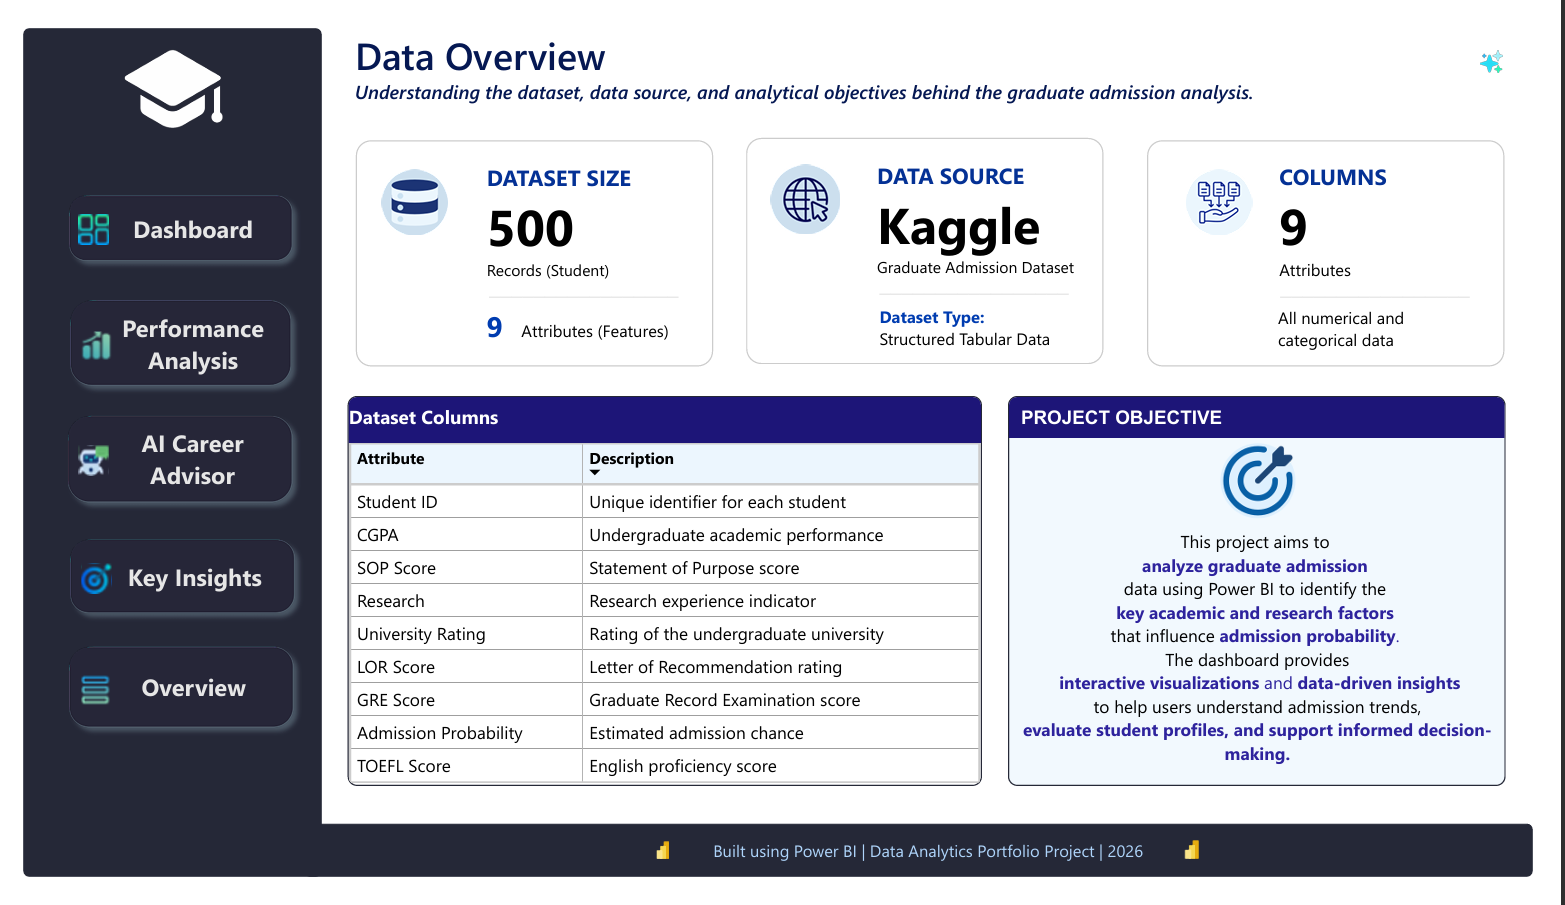

Layout of this report page (visuals, bound fields, positions):
{"tool":"powerbi","page":{"name":"Overview ","canvas":[1280,720],"ordinal":0},"visuals":[{"type":"shape","box":[0,0,252.9,720],"z":0,"group":"g3"},{"type":"textbox","box":[281.4,0,802.9,94.3],"z":0},{"type":"textbox","title":"DATASET SIZE","box":[613.3,93.3,303.3,192.2],"z":0,"group":"g5"},{"type":"textbox","title":"DATASET SIZE","box":[282.3,94.6,303.3,192.2],"z":0,"group":"g4"},{"type":"textbox","title":"DATASET SIZE","box":[953.3,95,303.3,192.2],"z":0,"group":"g6"},{"type":"shape","box":[237.8,675,1042.2,44.4],"z":0,"group":"g2"},{"type":"textbox","box":[724.5,112.3,180,114.3],"z":1000,"group":"g5"},{"type":"textbox","box":[1064.9,113.2,194.3,114.3],"z":1000,"group":"g6"},{"type":"textbox","box":[393.5,113.5,134,113.3],"z":1000,"group":"g4"},{"type":"group","id":"g1","title":"Group 7","box":[29.4,132.8,210,468.6],"z":1000,"group":"g3"},{"type":"group","id":"g2","title":"Group 3","box":[237.8,673.7,1042.2,46.3],"z":1000},{"type":"group","id":"g3","title":"Group 8","box":[0,0,252.9,720],"z":2000},{"type":"textbox","box":[725.9,235.4,192.7,42.7],"z":2000,"group":"g5"},{"type":"textbox","box":[393.5,235.7,164.1,43.3],"z":2000,"group":"g4"},{"type":"textbox","box":[1064.5,236.1,164.1,43.3],"z":2000,"group":"g6"},{"type":"image","box":[1210,4.3,70,48.6],"z":3000},{"type":"textbox","box":[726.4,216.2,174,20],"z":3000,"group":"g5"},{"type":"textbox","box":[395.4,217.5,174,20],"z":3000,"group":"g4"},{"type":"textbox","box":[1066.4,217.9,174,20],"z":3000,"group":"g6"},{"type":"image","box":[54.3,4.3,145.7,110],"z":4000},{"type":"tableEx","title":"Dataset Columns","fields":{"Values":["Dataset Columns.Attribute","Dataset Columns.Description"]},"box":[275,311.7,538.3,331.7],"z":5000},{"type":"group","id":"g4","title":"Group 1","box":[282.3,94.6,303.3,192.2],"z":6000},{"type":"group","id":"g5","title":"Group 1","box":[613.3,93.3,305,193.3],"z":7000},{"type":"group","id":"g6","title":"Group 1","box":[953.3,95,305,191.7],"z":8000},{"type":"actionButton","box":[30.2,132.8,206.7,73.3],"z":9000,"group":"g1"},{"type":"textbox","title":"PROJECT OBJECTIVE","box":[835,311.7,421.7,331.7],"z":9000},{"type":"actionButton","box":[31.1,221.8,205.8,89.8],"z":10000,"group":"g1"},{"type":"image","box":[952.5,320,187.5,127.5],"z":10000},{"type":"image","box":[613.8,101.2,98.8,88.8],"z":11000},{"type":"actionButton","box":[29.4,319.8,207.5,90.6],"z":11000,"group":"g1"},{"type":"image","box":[931.2,105,165,86.2],"z":12000},{"type":"actionButton","box":[31.1,424.4,208.3,80.7],"z":12000,"group":"g1"},{"type":"image","box":[282.5,105,98.8,86.2],"z":13000},{"type":"actionButton","box":[30.4,515.6,208.3,85.8],"z":13000,"group":"g1"},{"type":"textbox","box":[584.9,688.2,388.4,21.5],"z":13000,"group":"g2"},{"type":"textbox","box":[838.8,425,415,217.5],"z":13001},{"type":"image","box":[508.9,674.4,67.2,45.6],"z":14000,"group":"g2"},{"type":"image","box":[956.5,673.7,67.9,45.7],"z":15000,"group":"g2"}]}

Visuals, with their boxes in screenshot pixels (x1, y1, x2, y2), scaled from the page's 1280x720 canvas onto the 1565x905 screenshot:
shape: <box>0,0,309,904</box>
textbox: <box>344,0,1326,119</box>
"DATASET SIZE" textbox: <box>750,117,1121,359</box>
"DATASET SIZE" textbox: <box>345,119,716,360</box>
"DATASET SIZE" textbox: <box>1166,119,1536,361</box>
shape: <box>291,848,1564,904</box>
textbox: <box>886,141,1106,285</box>
textbox: <box>1302,142,1540,286</box>
textbox: <box>481,143,645,285</box>
"Group 7" group: <box>36,167,293,756</box>
"Group 3" group: <box>291,847,1564,904</box>
"Group 8" group: <box>0,0,309,904</box>
textbox: <box>888,296,1123,350</box>
textbox: <box>481,296,682,351</box>
textbox: <box>1302,297,1502,351</box>
image: <box>1479,5,1564,66</box>
textbox: <box>888,272,1101,297</box>
textbox: <box>483,273,696,299</box>
textbox: <box>1304,274,1517,299</box>
image: <box>66,5,245,144</box>
"Dataset Columns" tableEx: <box>336,392,994,809</box>
"Group 1" group: <box>345,119,716,360</box>
"Group 1" group: <box>750,117,1123,360</box>
"Group 1" group: <box>1166,119,1538,360</box>
actionButton: <box>37,167,290,259</box>
"PROJECT OBJECTIVE" textbox: <box>1021,392,1537,809</box>
actionButton: <box>38,279,290,392</box>
image: <box>1165,402,1394,562</box>
image: <box>750,127,871,239</box>
actionButton: <box>36,402,290,516</box>
image: <box>1139,132,1340,240</box>
actionButton: <box>38,533,293,635</box>
image: <box>345,132,466,240</box>
actionButton: <box>37,648,292,756</box>
textbox: <box>715,865,1190,892</box>
textbox: <box>1026,534,1533,808</box>
image: <box>622,848,704,904</box>
image: <box>1169,847,1252,904</box>
